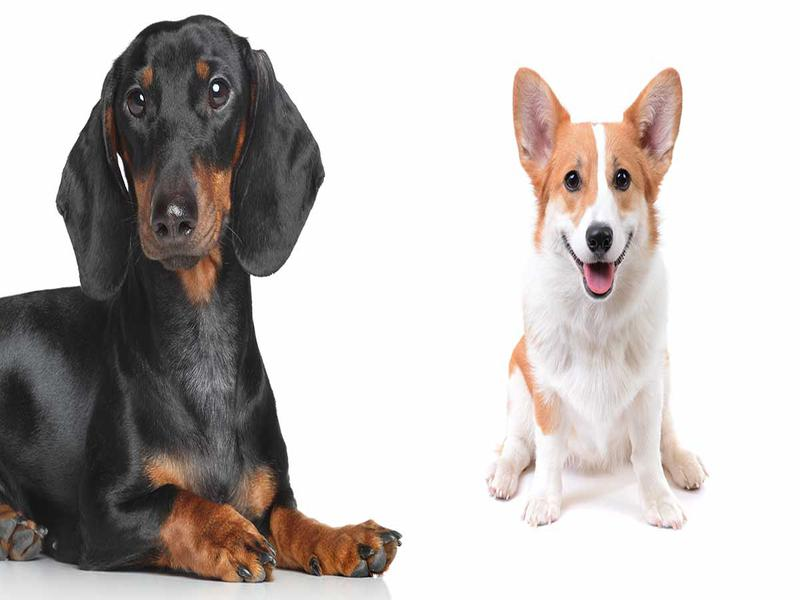corgi: (512, 67, 686, 301)
